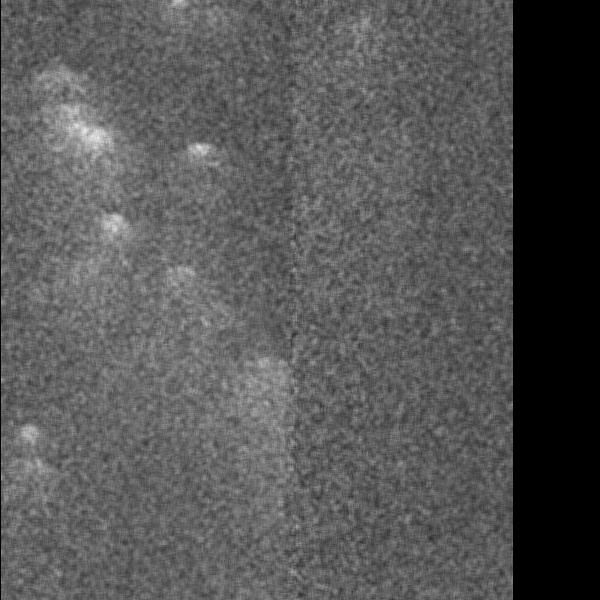spark: (230, 329, 250, 432), (162, 533, 209, 575), (288, 99, 310, 125)
